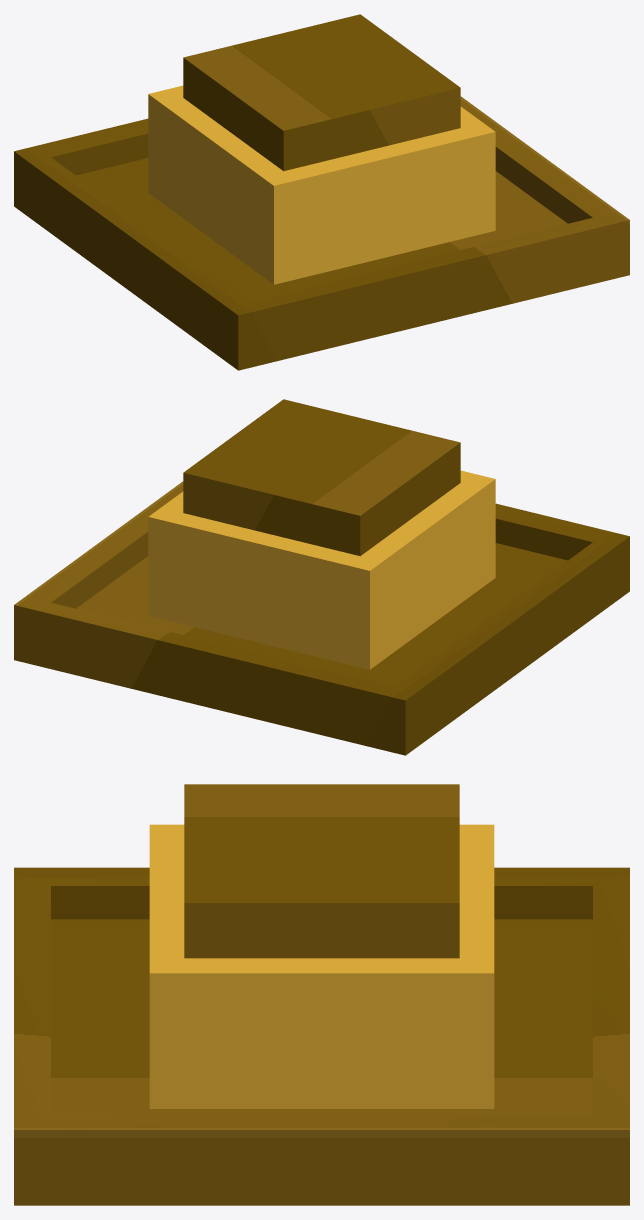
File: BGN-BASIC HAT.fbx
3 renders of one model, top to bottom at view 1: azimuth 30°, elevation 25°; view 2: azimuth 150°, elevation 25°; view 3: azimuth 270°, elevation 25°, orthographic. The views are drawn at different scales.
Visible parts, largest first — view 1: BGN_BASIC_HAT; view 2: BGN_BASIC_HAT; view 3: BGN_BASIC_HAT.
Boxes of the visible parts, box(x1,y1,x2,y2) form: BGN_BASIC_HAT: box(14, 14, 629, 370); BGN_BASIC_HAT: box(14, 399, 629, 755); BGN_BASIC_HAT: box(14, 784, 629, 1205).
Size of the model in its own units: 58.15 by 23.87 by 57.71.
Materials: 1 (1 with a texture image).
